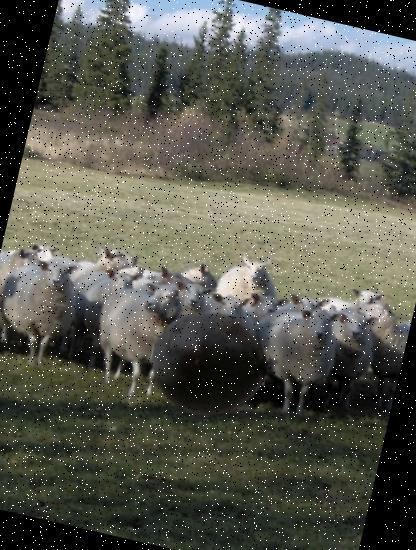Plum: (139, 294, 279, 434)
